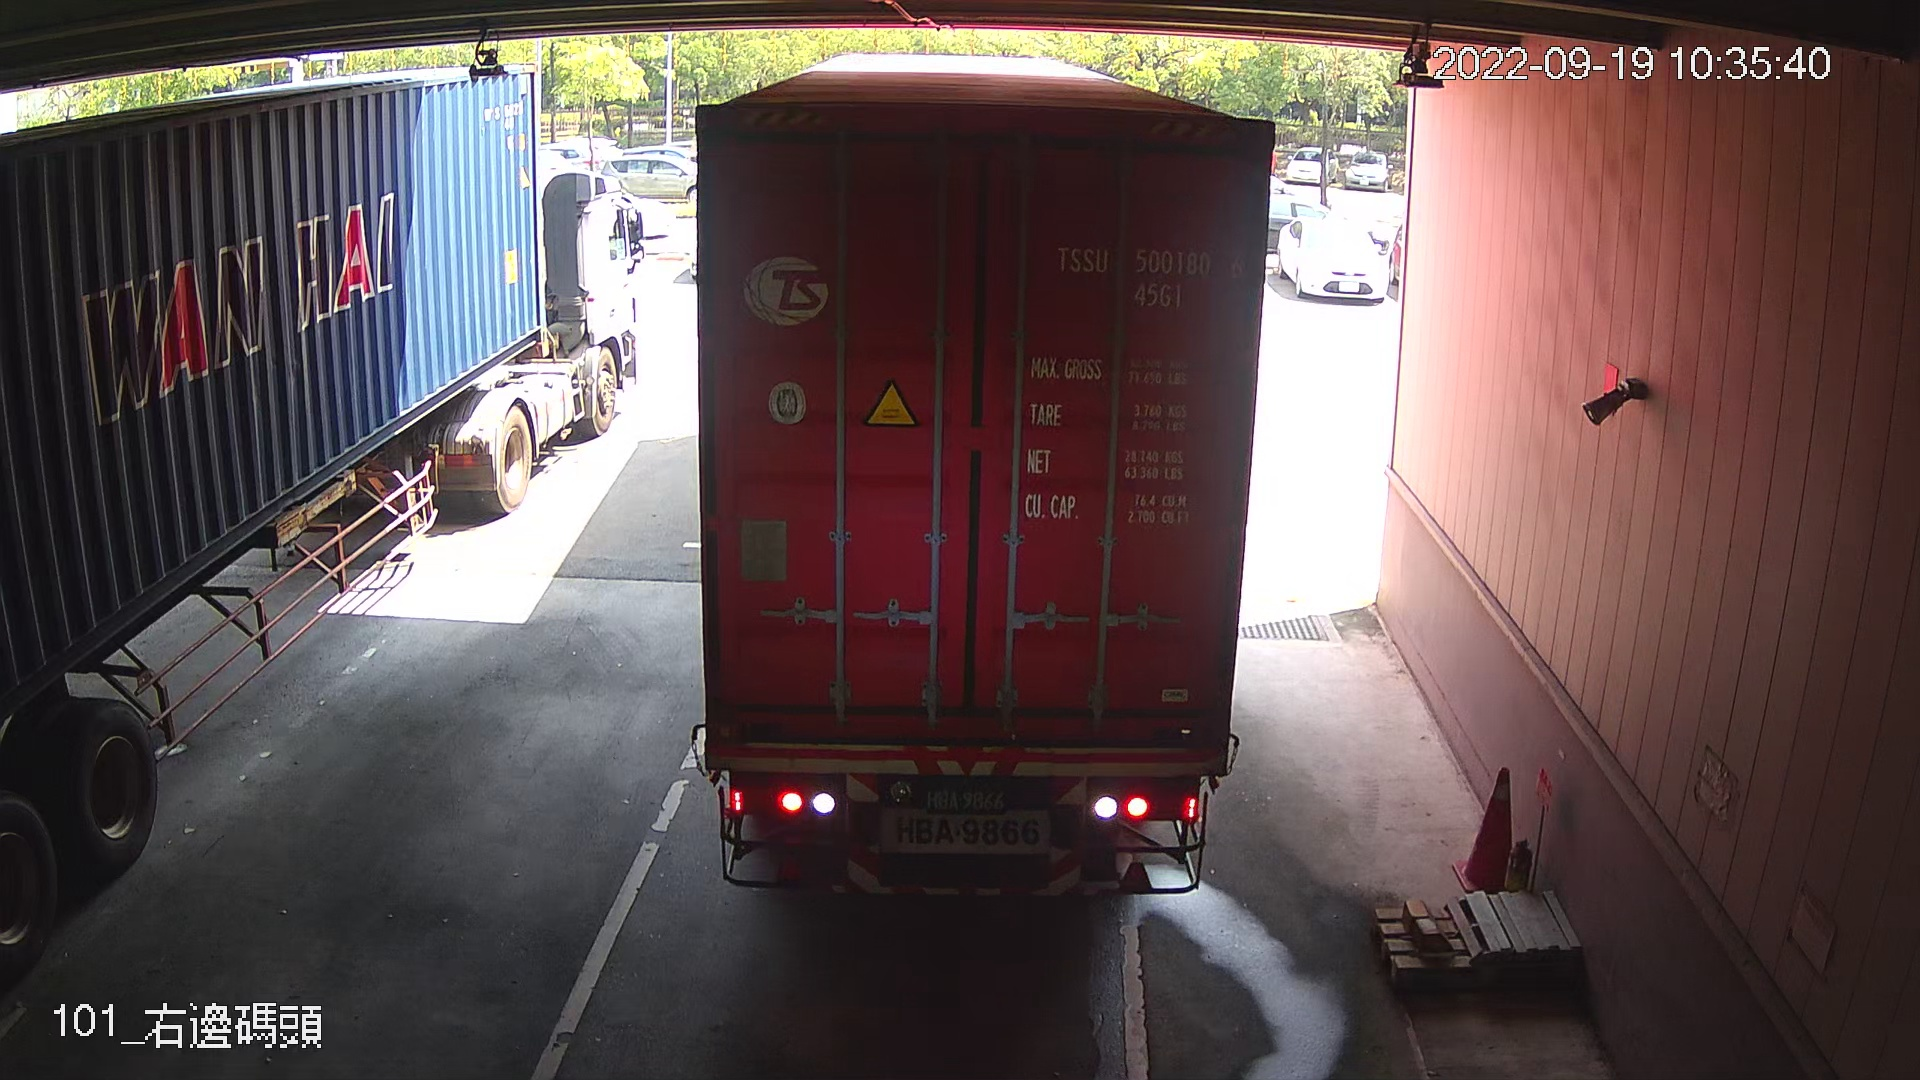container: (1042, 233, 1251, 318)
